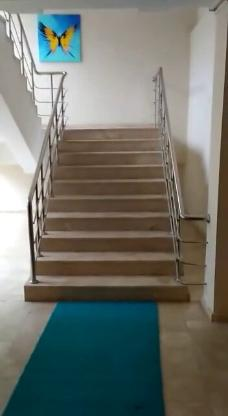stair: (29, 84, 187, 307)
